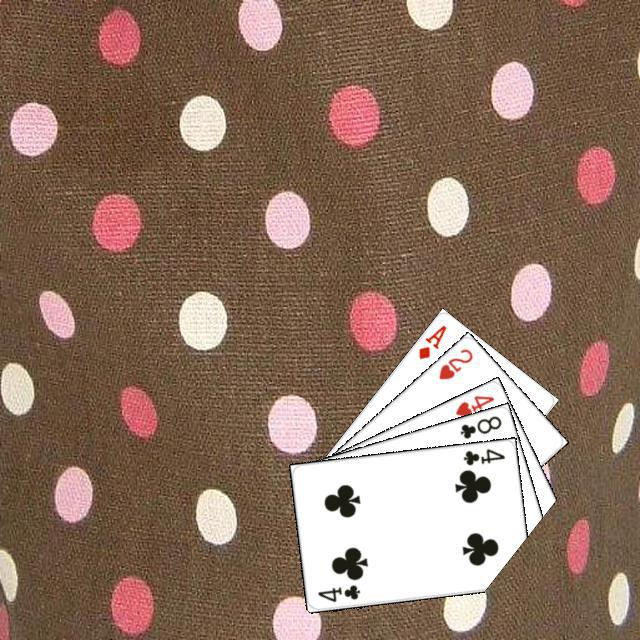2h: (434, 344, 475, 381)
4c: (313, 580, 361, 604), (458, 444, 506, 467)
4h: (450, 390, 496, 418)
8c: (455, 411, 503, 440)
Ad: (413, 320, 448, 361)
